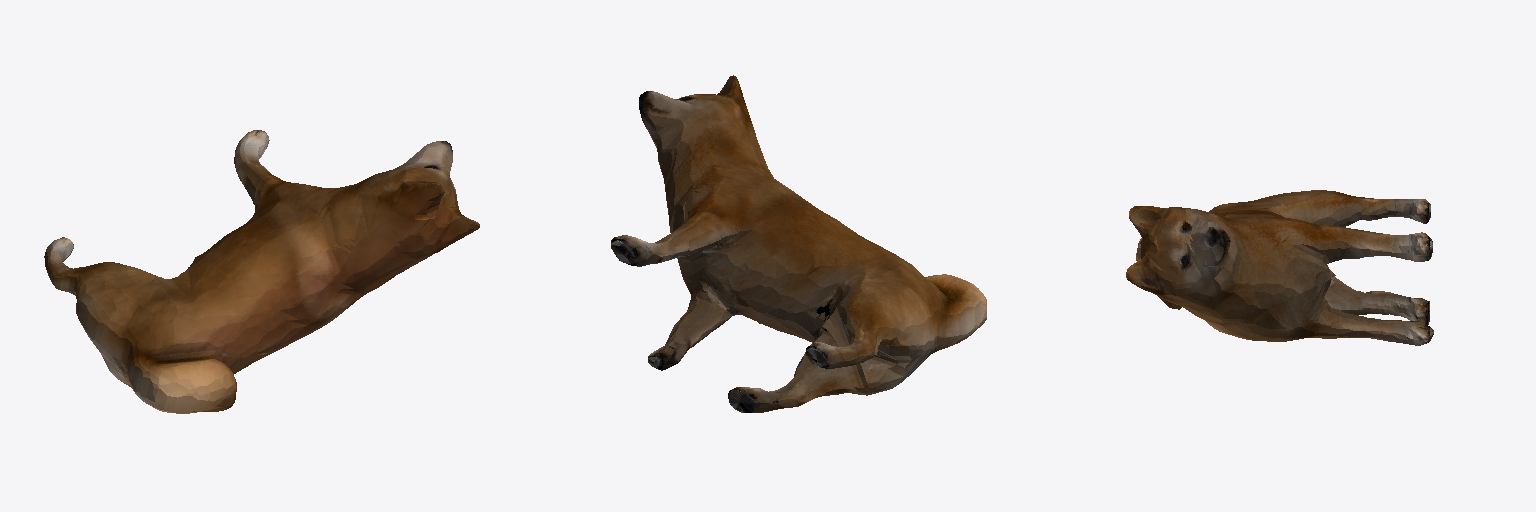
The picture shows the model from 3 angles: view 1: azimuth 30°, elevation 25°; view 2: azimuth 150°, elevation 25°; view 3: azimuth 270°, elevation 25°; orthographic projection.
Size of the model in its own units: 0.5789 by 0.3499 by 0.4763.
1 materials, 1 textured.